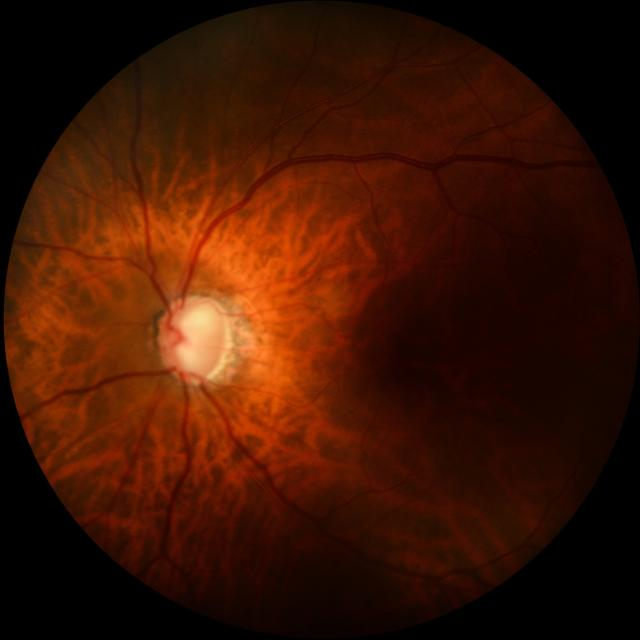OC: (173, 298, 228, 376)
OD: (156, 294, 232, 382)
